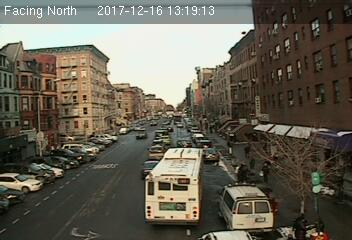bus: (144, 146, 205, 227)
car: (202, 146, 219, 161), (148, 146, 164, 160), (177, 138, 193, 148)
pedestrian: (260, 160, 269, 181), (243, 143, 251, 162)
police: (216, 181, 274, 237)
